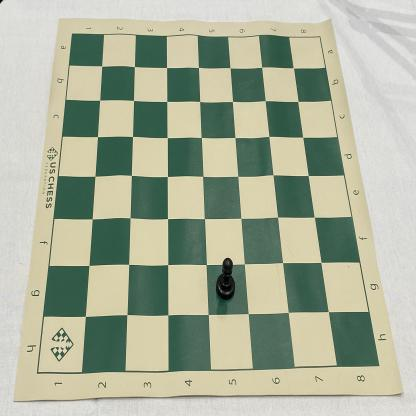black-pawn: (215, 257, 236, 300)
